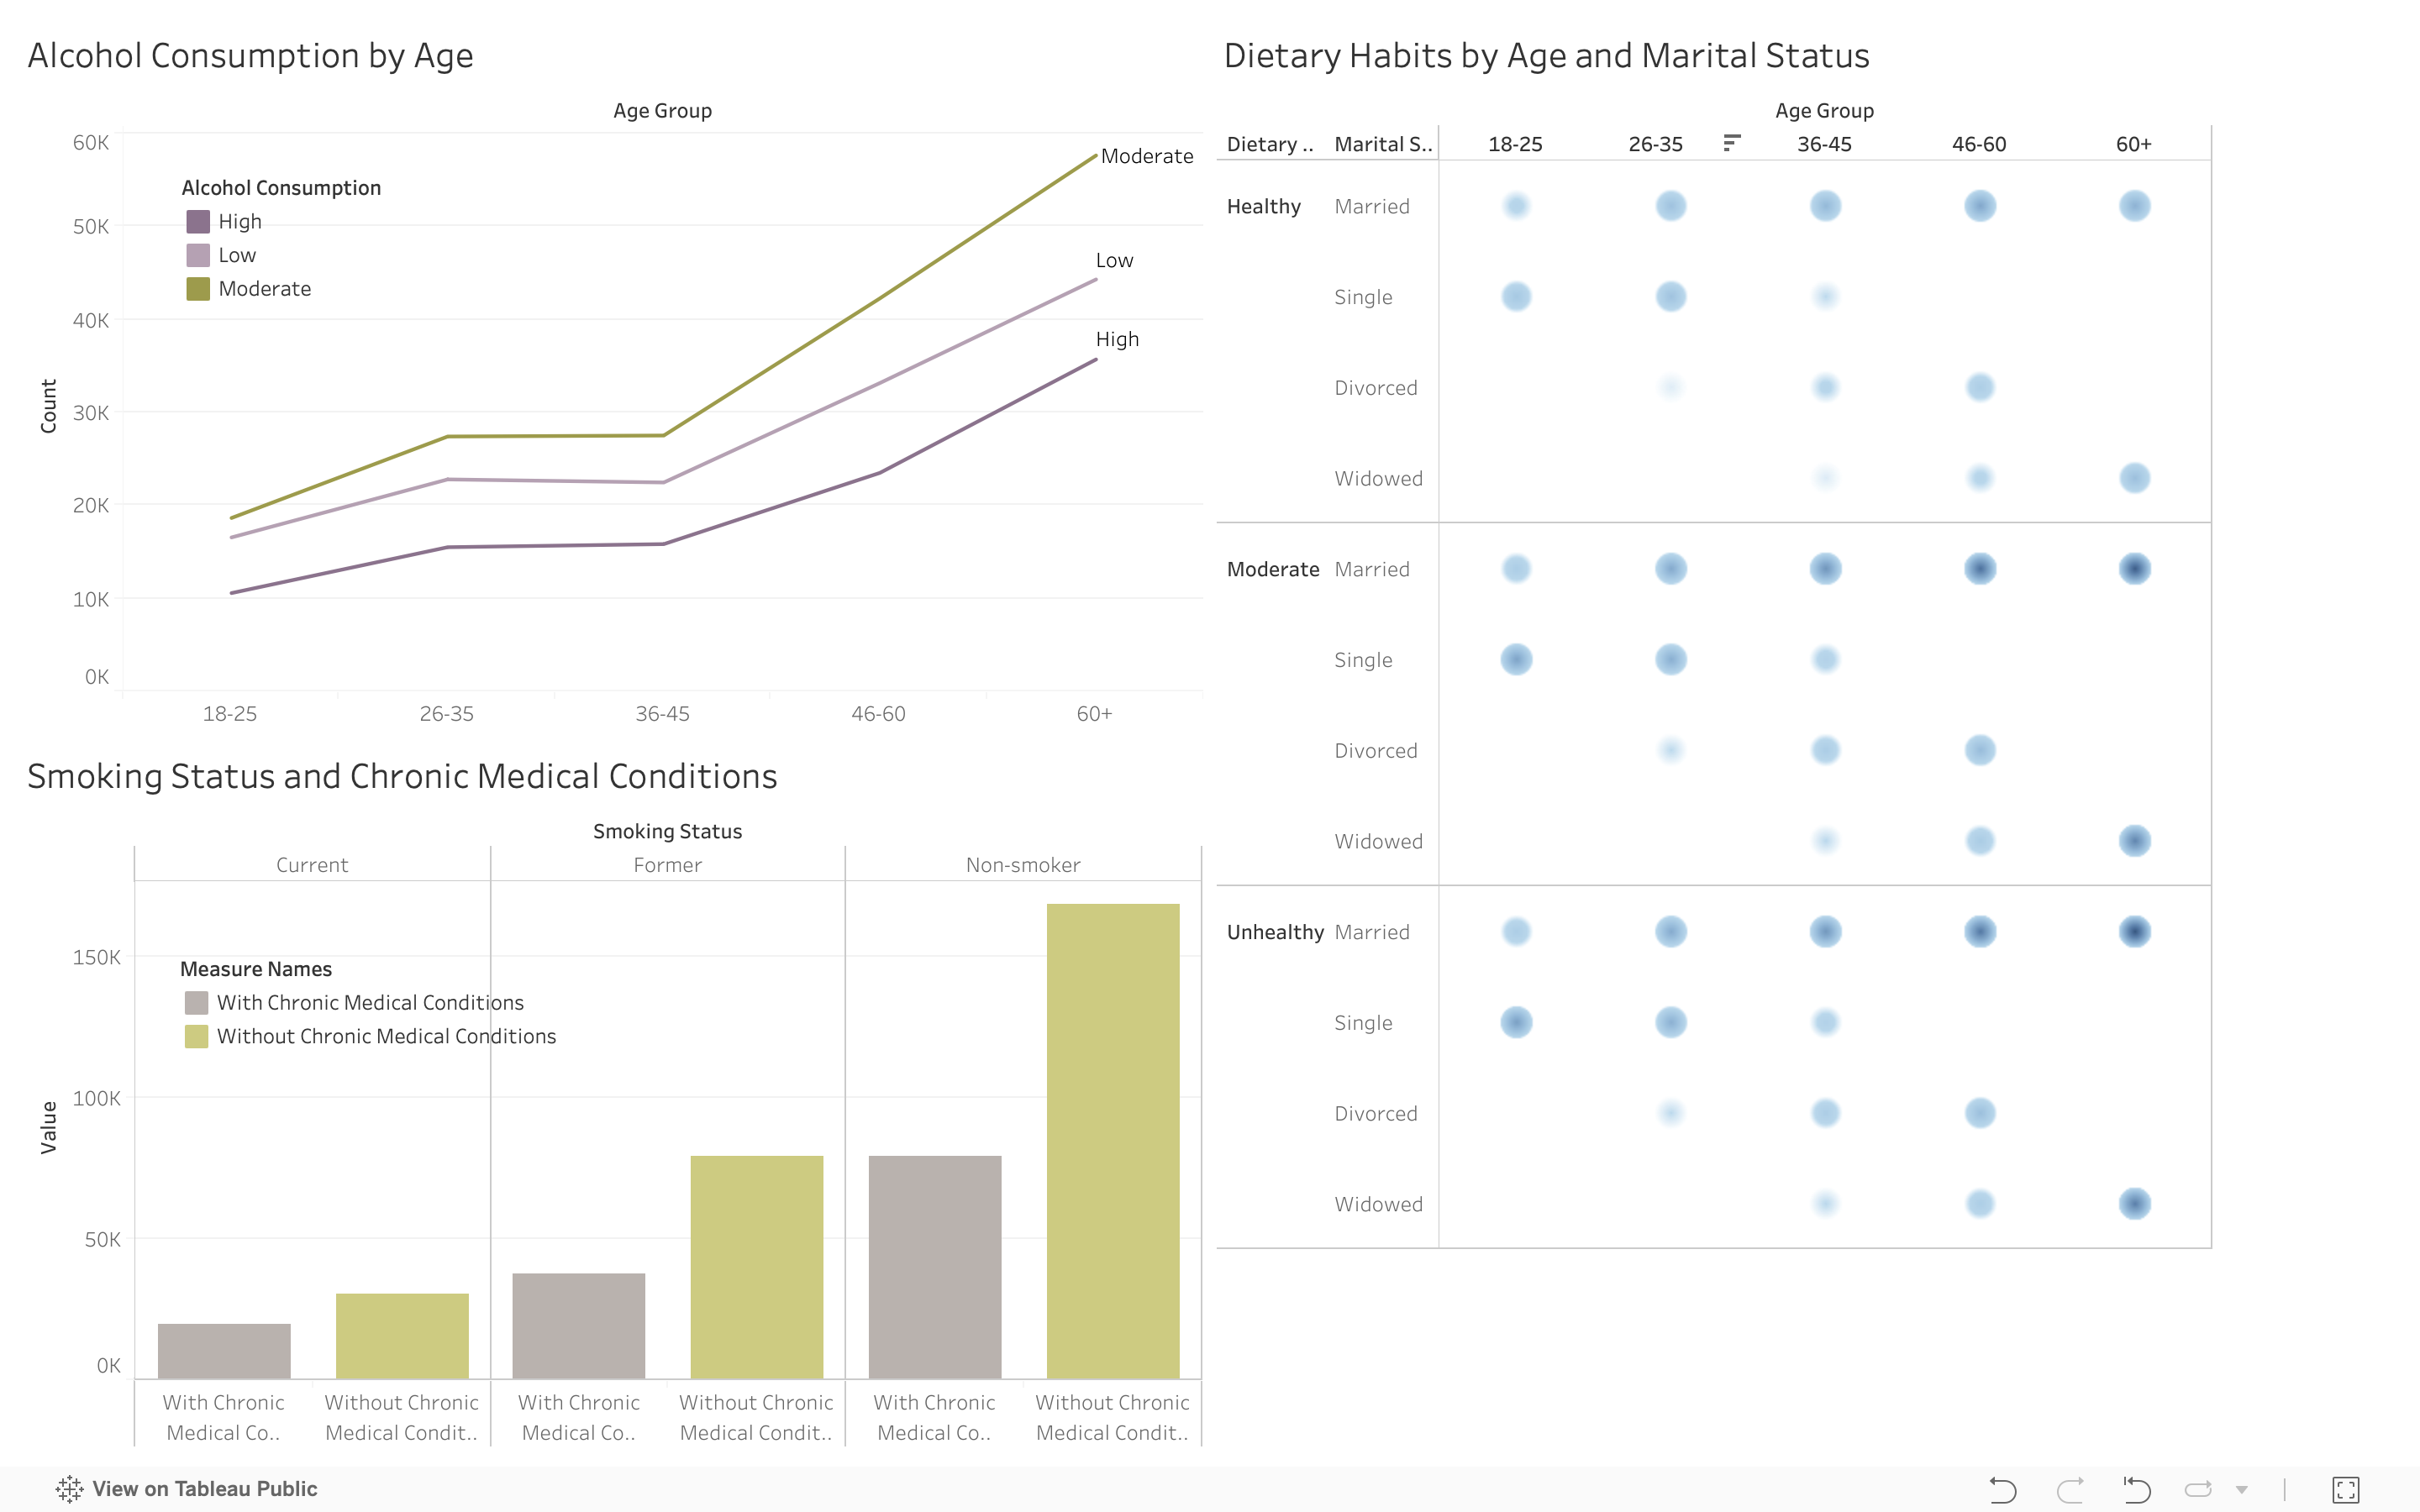

This screenshot's page, from the dashboard's own definition file:
{"tool":"tableau","page":{"name":"Bad Habits in People with Depression","canvas":[1000,1000],"units":"permille","ordinal":0},"visuals":[{"type":"worksheet","title":"Alcohol Consumption Distribution by Age Group","mark":"Line","rows":["count"],"cols":["Age Group"],"box":[6.5,10.4,493.5,489.6]},{"type":"worksheet","title":"Dietary Habits by Age and Marital Status","mark":"Heatmap","rows":["Dietary Habits","Marital Status"],"cols":["Age Group"],"box":[500,10.4,493.5,979.2]},{"type":"legend","title":"Alcohol Consumption Distribution by Age Group","param":"[federated.0wvjsgx1pd48ox1dhgrv10itqfh7].[none:Alcohol Consumption:nk]","box":[74.9,118.5,113.9,101.6]},{"type":"worksheet","title":"Smoking Status and Chronic Medical Conditions","mark":"Automatic","cols":["Smoking Status"],"box":[6.5,500,493.5,489.6]},{"type":"legend","title":"Smoking Status and Chronic Medical Conditions","param":"[federated.1rkhnt51pyxfy916vfy9l0dj4lhc].[:Measure Names]","box":[74,651,186.3,75.5]}]}

Visuals, with their boxes on the dashboard's canvas, which has no fixed pixel size, in thousandths of its width and height (x1, y1, x2, y2). These are canvas units, not pixel positions in the 2420x1512 screenshot, which may show the page scaled, cropped or inside an application window:
"Alcohol Consumption Distribution by Age Group" worksheet (Line marks): box=[6, 10, 500, 500]
"Dietary Habits by Age and Marital Status" worksheet (Heatmap marks): box=[500, 10, 994, 990]
"Alcohol Consumption Distribution by Age Group" legend: box=[75, 118, 189, 220]
"Smoking Status and Chronic Medical Conditions" worksheet: box=[6, 500, 500, 990]
"Smoking Status and Chronic Medical Conditions" legend: box=[74, 651, 260, 726]
